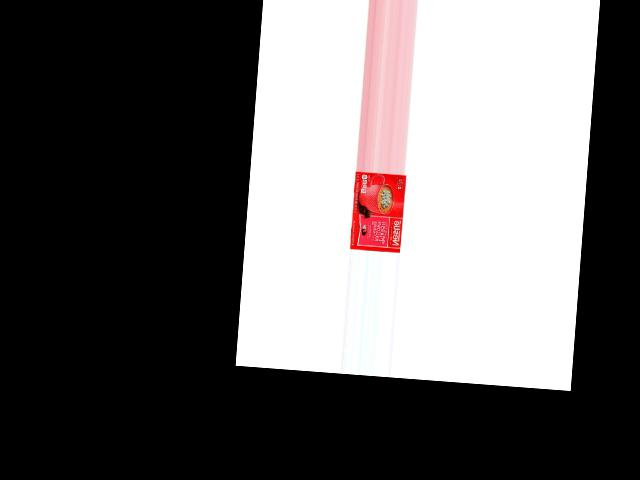chocolate: (346, 170, 404, 250)
